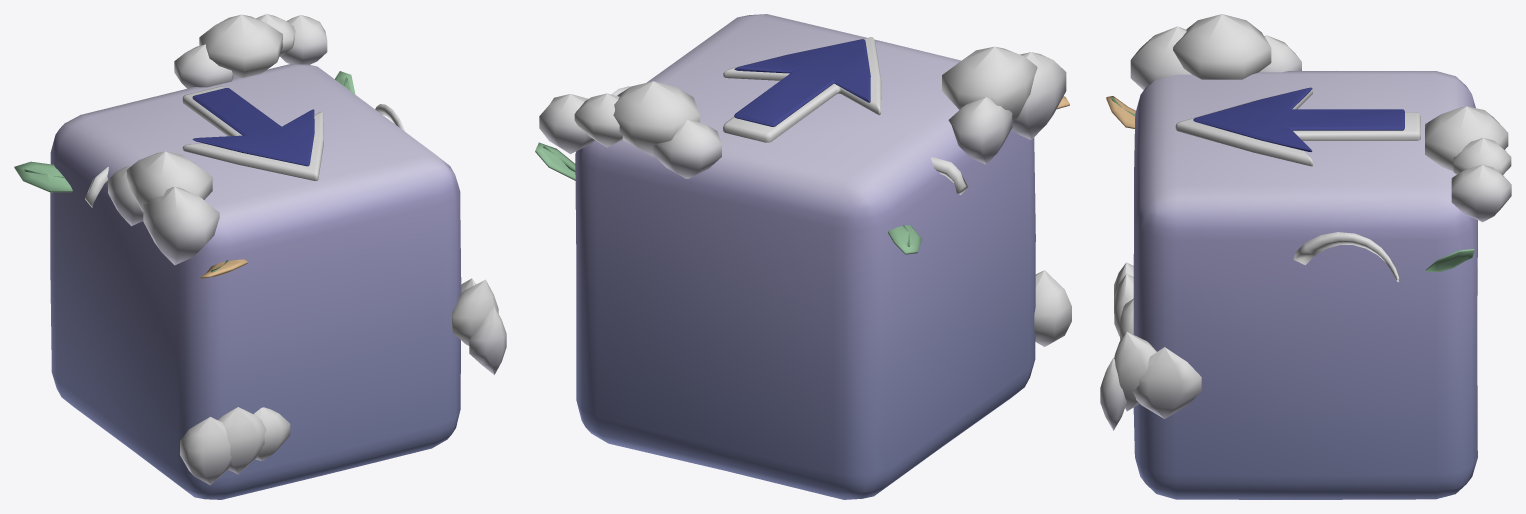
The model's file is hava_hi.glb.
The picture shows the model from 3 angles, left to right: view 1: azimuth 30°, elevation 25°; view 2: azimuth 150°, elevation 25°; view 3: azimuth 270°, elevation 25°; orthographic projection. The views are drawn at different scales.
Visible parts, largest first — view 1: hava_hi; view 2: hava_hi; view 3: hava_hi.
Boxes of the visible parts, x1=… form: hava_hi: x1=14, y1=14, x2=506, y2=499; hava_hi: x1=535, y1=14, x2=1071, y2=499; hava_hi: x1=1100, y1=14, x2=1511, y2=499.
Size of the model in its own units: 1.08 by 1.06 by 1.08.
